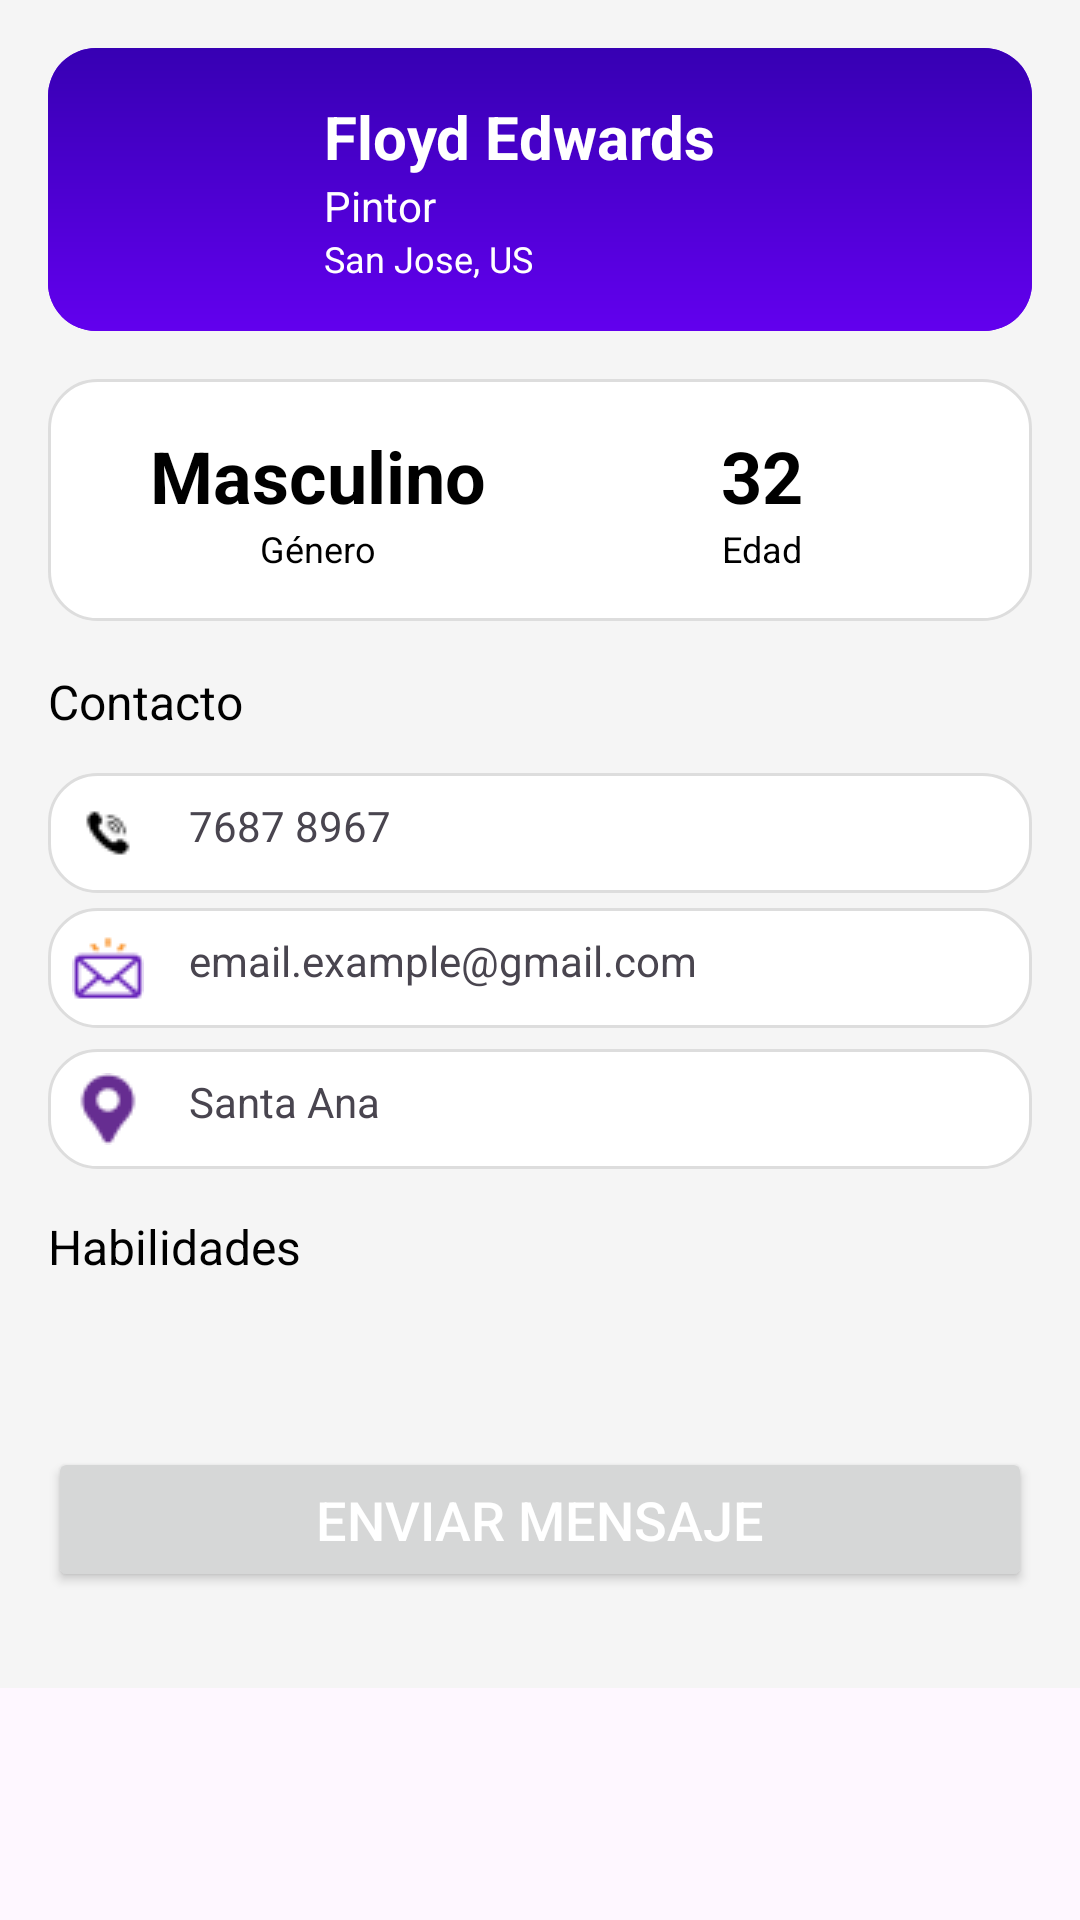

Named icons in this screenshot (1080px×1920px) and their bounding boxes, (x1, y1, x2, y2):
address icon: (80, 1073, 136, 1143)
phone: (86, 811, 130, 855)
